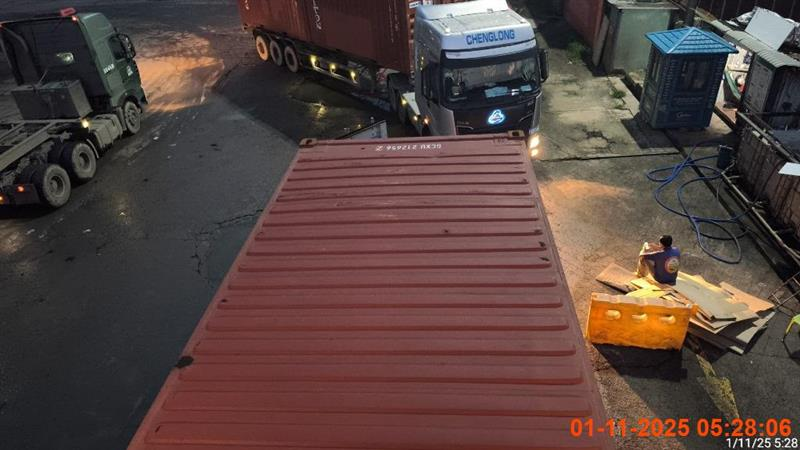broken: (128, 132, 613, 442), (236, 0, 549, 140), (0, 8, 149, 209), (636, 235, 681, 286)
